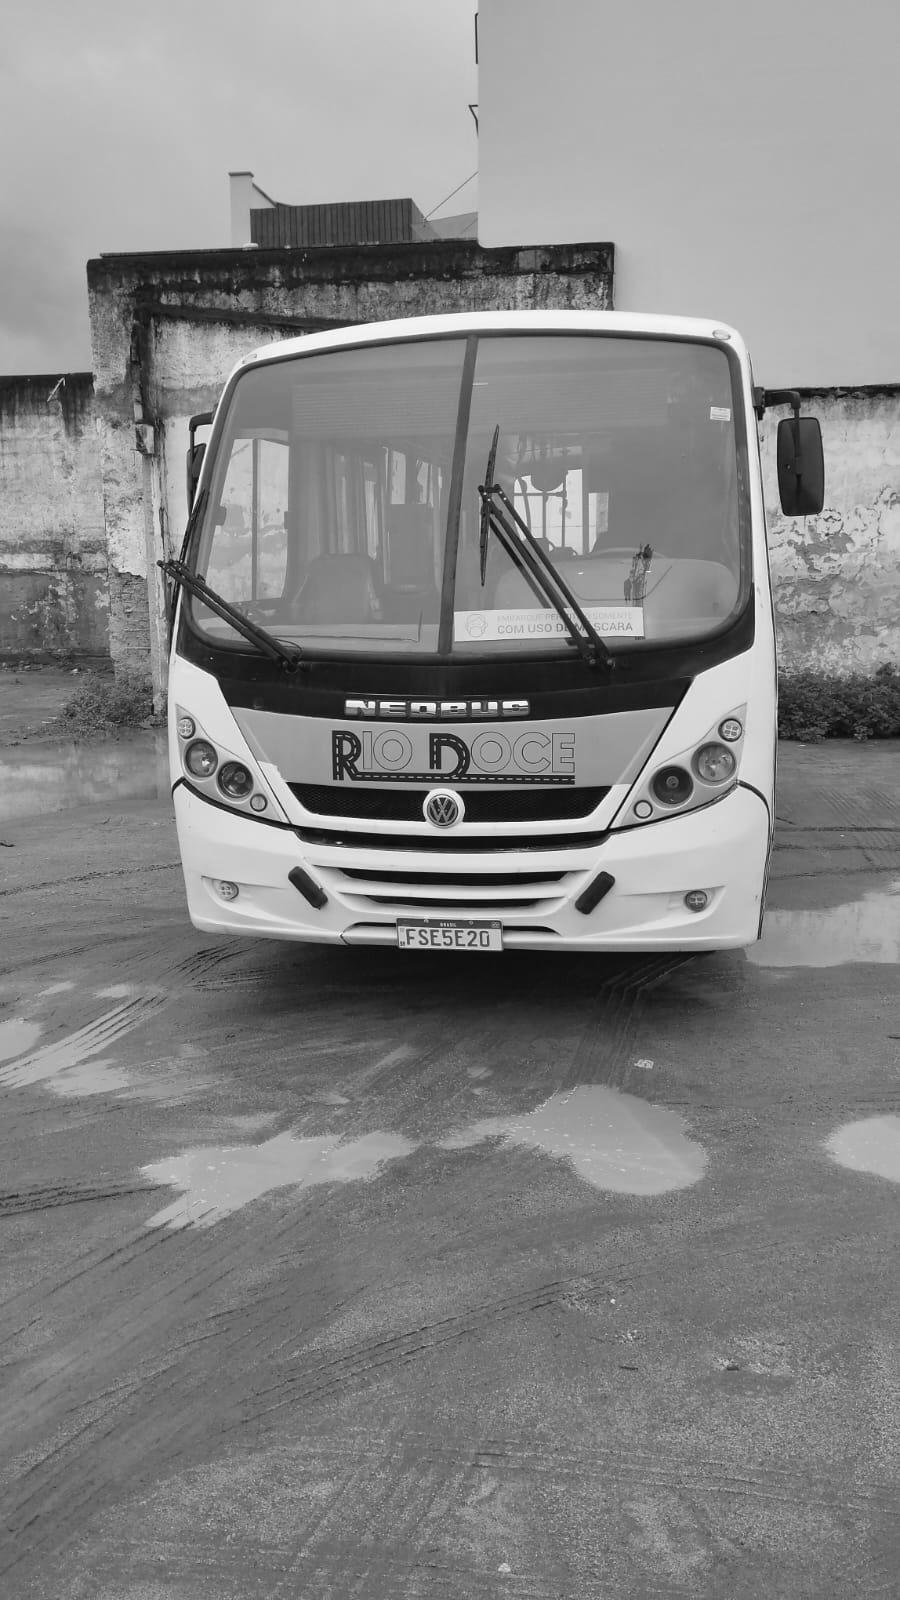placa_mercosul: (396, 921, 502, 951)
